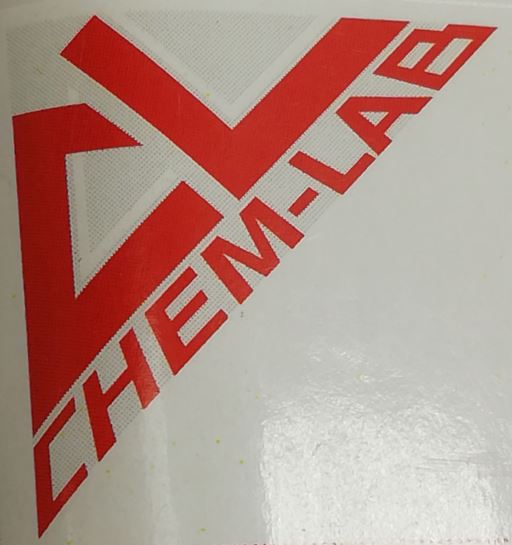ChemLab: (8, 10, 504, 540)
